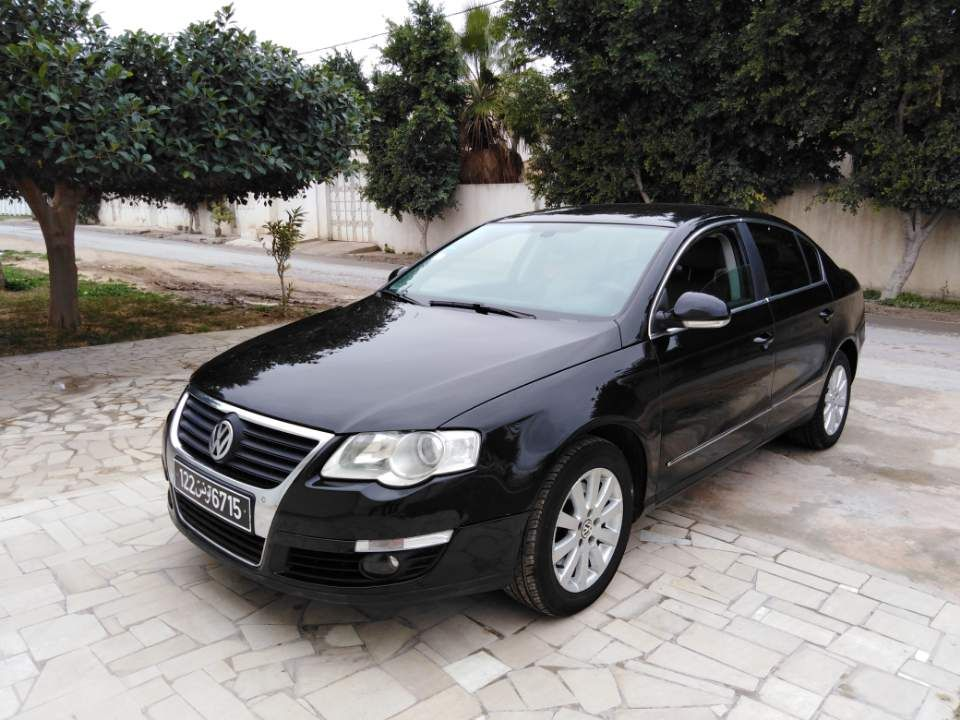LP: (171, 456, 251, 532)
